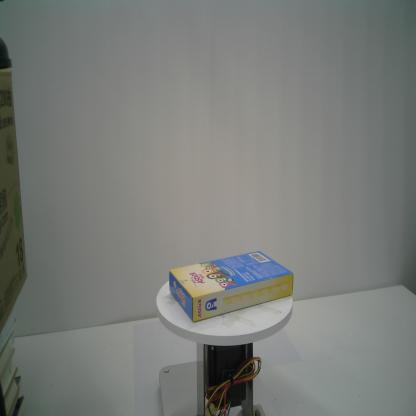Dessert: (169, 252, 293, 323)
